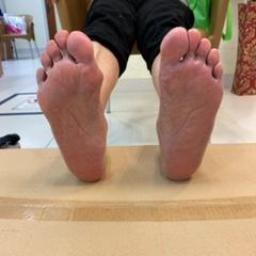Plantar View -Both Feet-: (18, 7, 239, 207)
